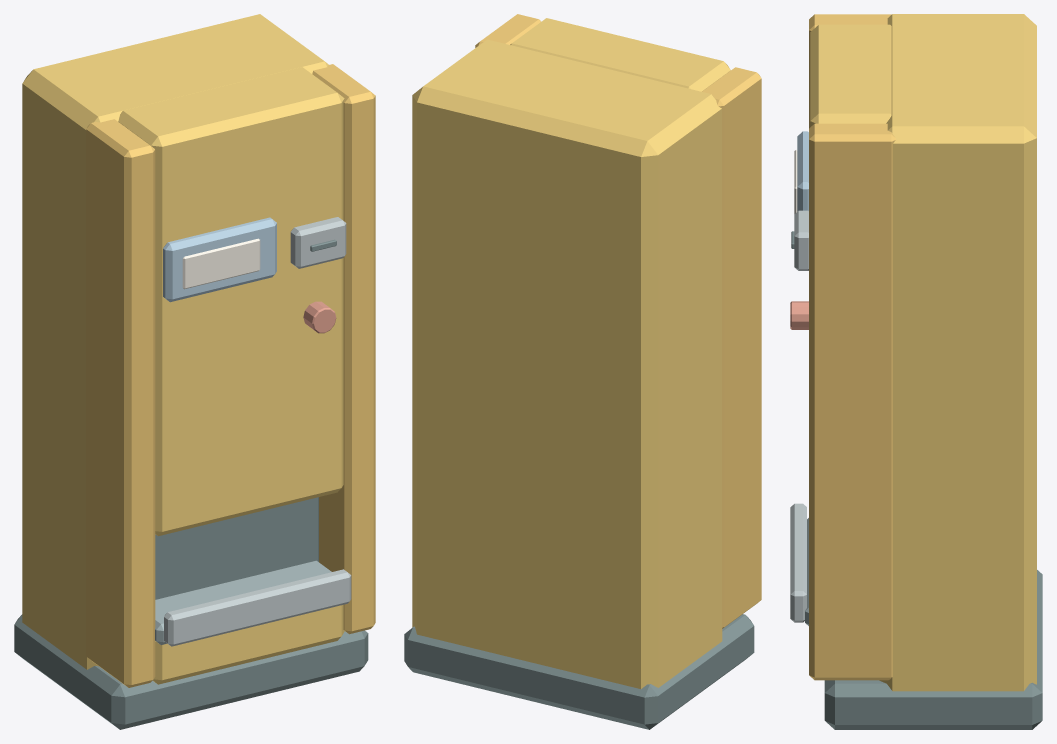
The model's file is Facilities-PaperVendingMachine.fbx.
3 renders of one model, left to right at view 1: azimuth 30°, elevation 25°; view 2: azimuth 150°, elevation 25°; view 3: azimuth 270°, elevation 25°, orthographic. The views are drawn at different scales.
Parts seen in each view (by area): view 1: Front Fascia.001, Rear Cabinet, Front Side Column, Front Side Column.001, Front Fascia.002, Footing, Pickup Recess, Front Fascia, Tray Edge, Stock Display, Pickup Tray, Stock Indicator Panel (+2 smaller); view 2: Rear Cabinet, Front Side Column, Footing, Front Fascia.002, Front Side Column.001; view 3: Rear Cabinet, Front Side Column.001, Footing, Front Fascia.002, Tray Edge, Front Side Column, Stock Display, Coin Slot Backing, Release Button.
Boxes of the visible parts, box(x1,y1,x2,y2) form: Front Fascia.001: box(155, 107, 343, 536); Rear Cabinet: box(22, 14, 328, 669); Front Side Column: box(86, 119, 155, 687); Front Side Column.001: box(312, 64, 375, 634); Front Fascia.002: box(118, 67, 344, 191); Footing: box(14, 614, 368, 729); Pickup Recess: box(155, 497, 318, 599); Front Fascia: box(153, 605, 344, 684); Tray Edge: box(164, 569, 351, 646); Stock Display: box(163, 217, 276, 302); Pickup Tray: box(155, 560, 331, 644); Stock Indicator Panel: box(182, 238, 260, 289); Rear Cabinet: box(412, 39, 722, 688); Front Side Column: box(702, 67, 761, 628); Footing: box(404, 614, 754, 729); Front Fascia.002: box(510, 18, 730, 91); Front Side Column.001: box(475, 14, 540, 47); Rear Cabinet: box(879, 14, 1036, 691); Front Side Column.001: box(809, 123, 895, 680); Footing: box(824, 570, 1042, 729); Front Fascia.002: box(810, 24, 891, 126); Tray Edge: box(790, 503, 806, 622); Front Side Column: box(809, 14, 891, 128); Stock Display: box(797, 131, 808, 211); Coin Slot Backing: box(794, 210, 808, 270); Release Button: box(790, 301, 808, 329).
Size of the model in its own units: 0.65 by 1.43 by 0.544.
